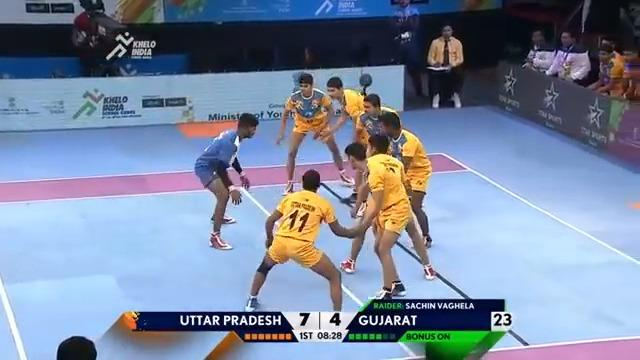Player: (244, 168, 370, 312), (340, 133, 435, 300), (275, 71, 354, 195), (376, 111, 433, 249)
Raider: (193, 111, 258, 250)
referee: (70, 0, 127, 76), (389, 0, 426, 98), (425, 23, 464, 108)
